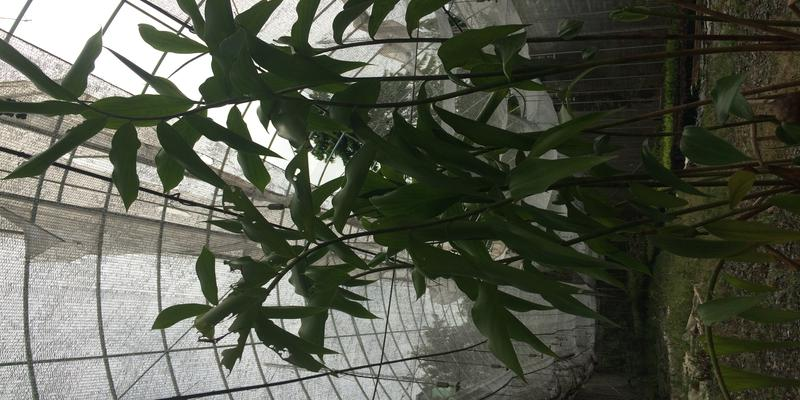Insulin: (130, 20, 745, 289)
